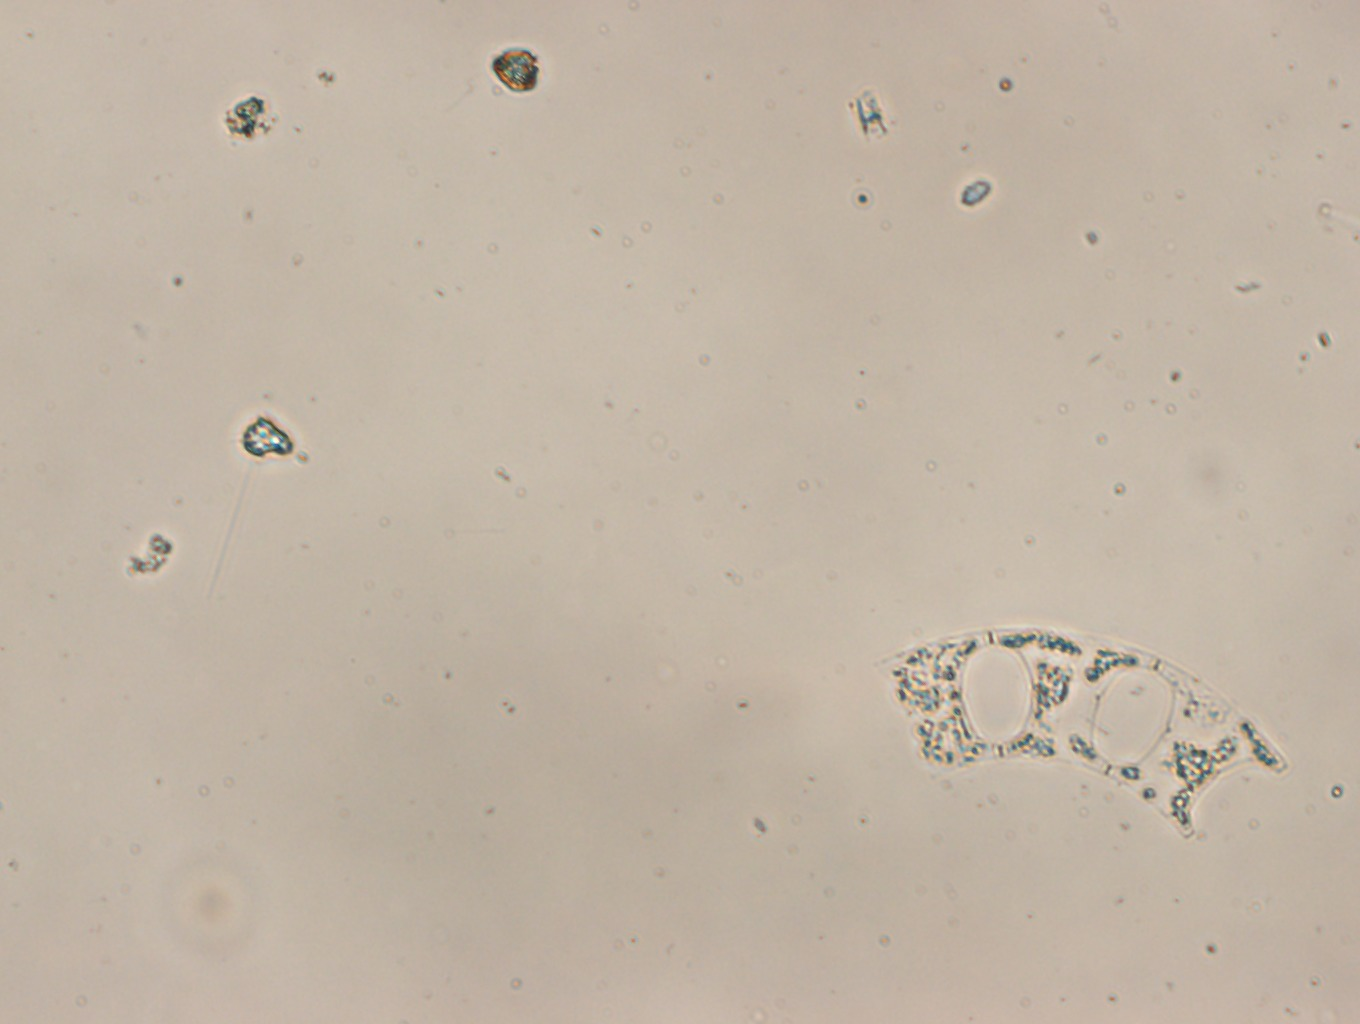eucampia: (879, 625, 1290, 842)
